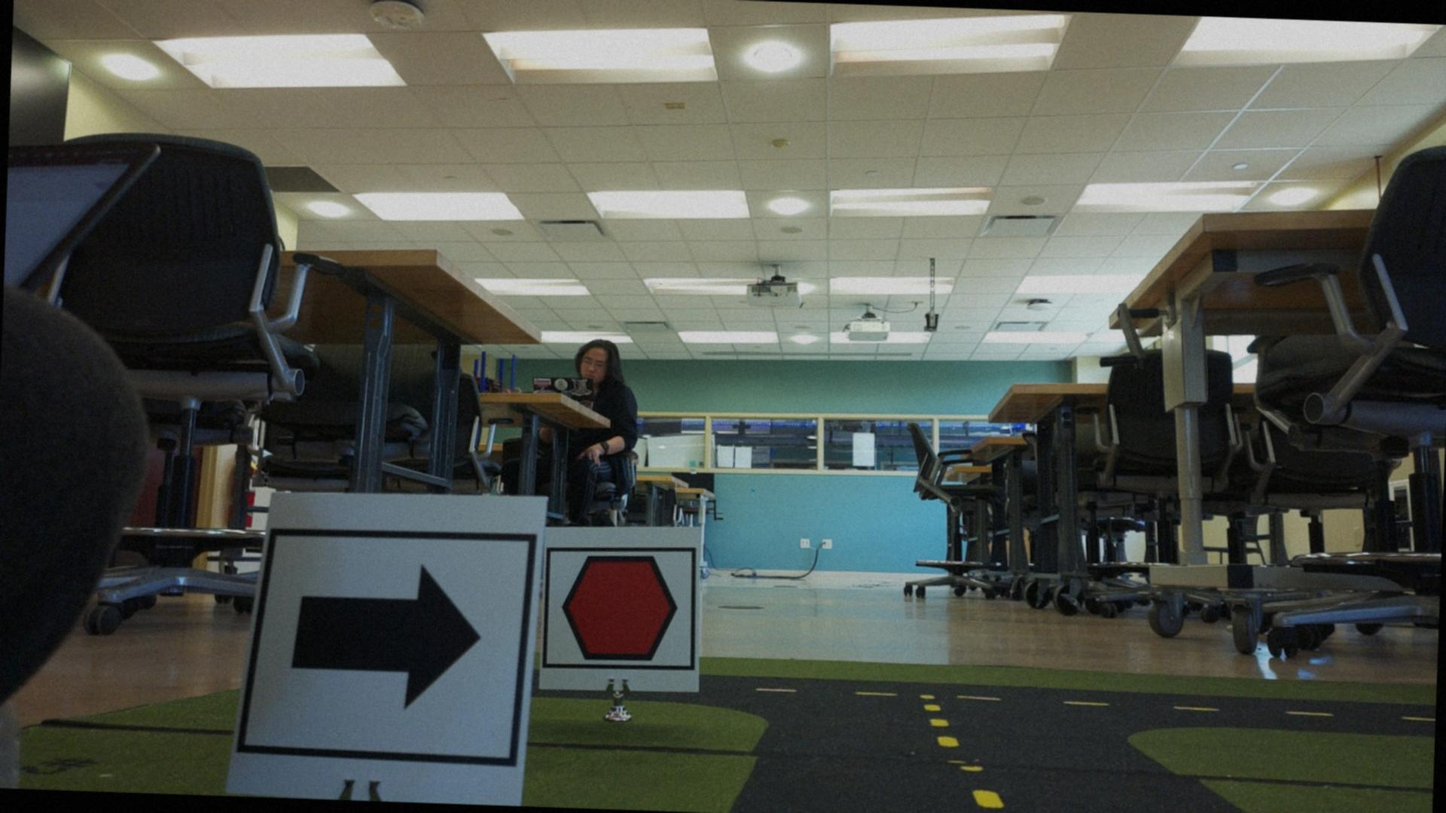stop: (546, 546, 697, 668)
turnright: (261, 529, 527, 761)
yellowline: (920, 702, 1008, 812)
